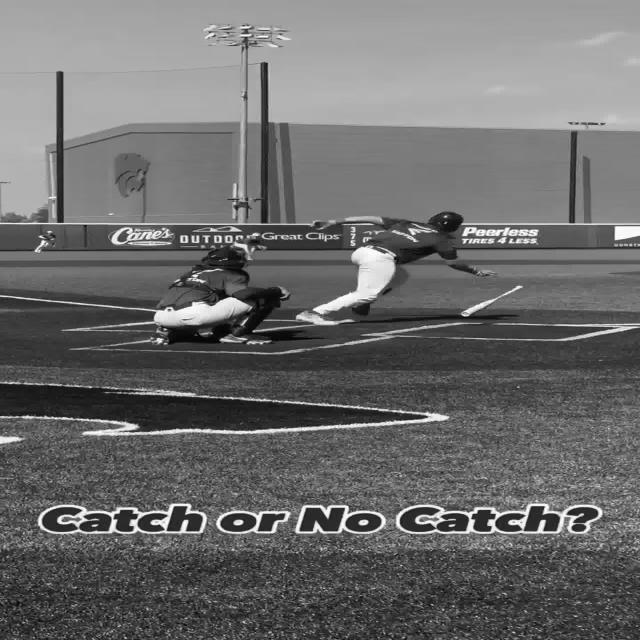bat: (459, 285, 523, 317)
shoe: (294, 310, 354, 325), (219, 332, 273, 345), (149, 326, 175, 345), (350, 303, 370, 316)
